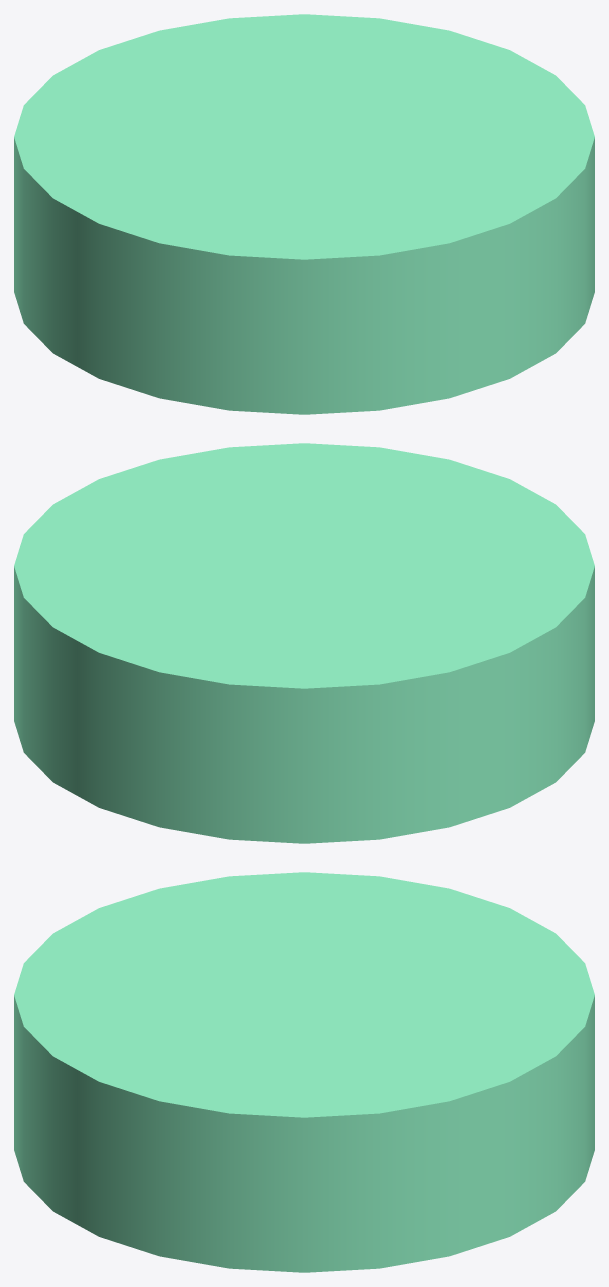
Rendered from Hockey Puck Green.fbx.
The picture shows the model from 3 angles, top to bottom: view 1: azimuth 30°, elevation 25°; view 2: azimuth 150°, elevation 25°; view 3: azimuth 270°, elevation 25°; orthographic projection.
Visible parts, largest first — view 1: Hockey Puck Green; view 2: Hockey Puck Green; view 3: Hockey Puck Green.
Boxes of the visible parts, <box> form: Hockey Puck Green: <box>14,14,594,414</box>; Hockey Puck Green: <box>14,443,594,843</box>; Hockey Puck Green: <box>14,872,594,1272</box>.
Bounding box in the file's own units: 0.439 × 0.1293 × 0.439.
